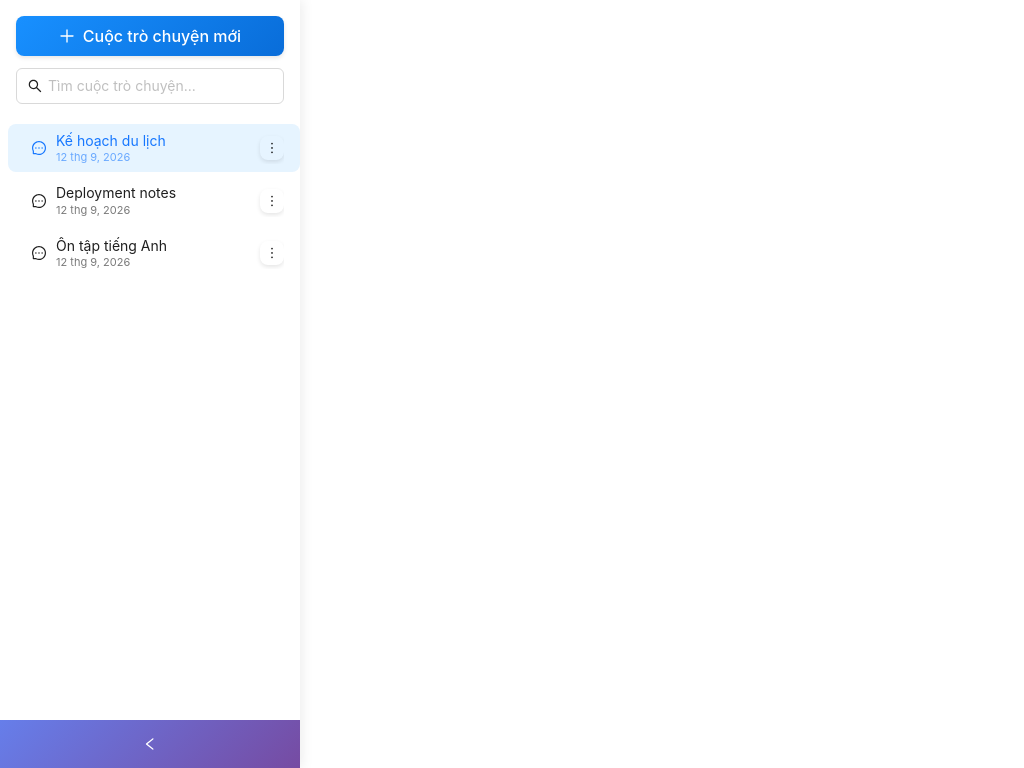
it: Sidebar › rename › saves a new name
Click the button named "Tùy chọn cuộc trò chuyện" next to "Deployment notes".
click(272, 201)  # box [260, 189, 284, 213]
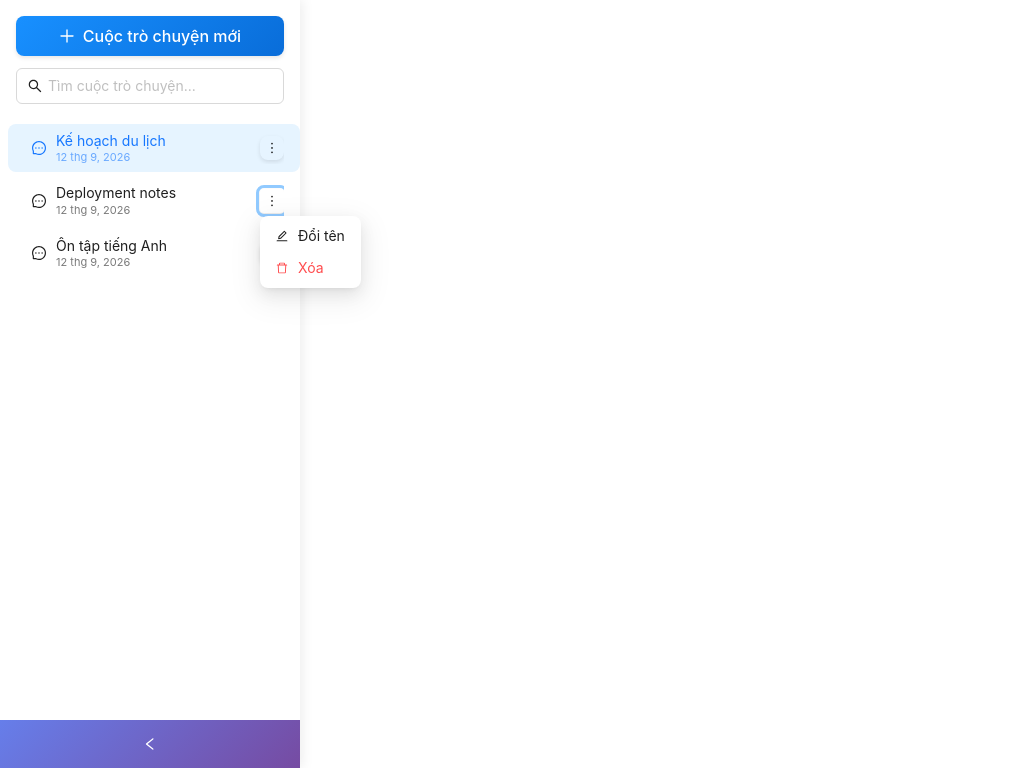
Click the menu item "Đổi tên".
click(310, 236)  # box [276, 227, 345, 244]
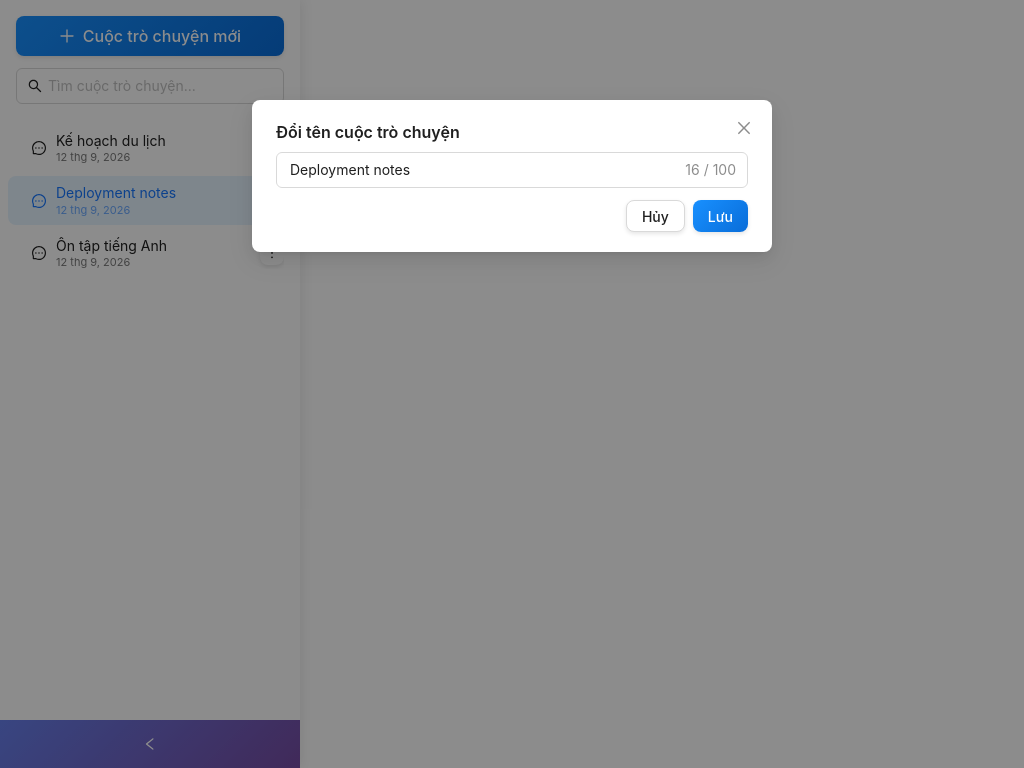
Clear the field at (485, 170), box [288, 157, 681, 183]
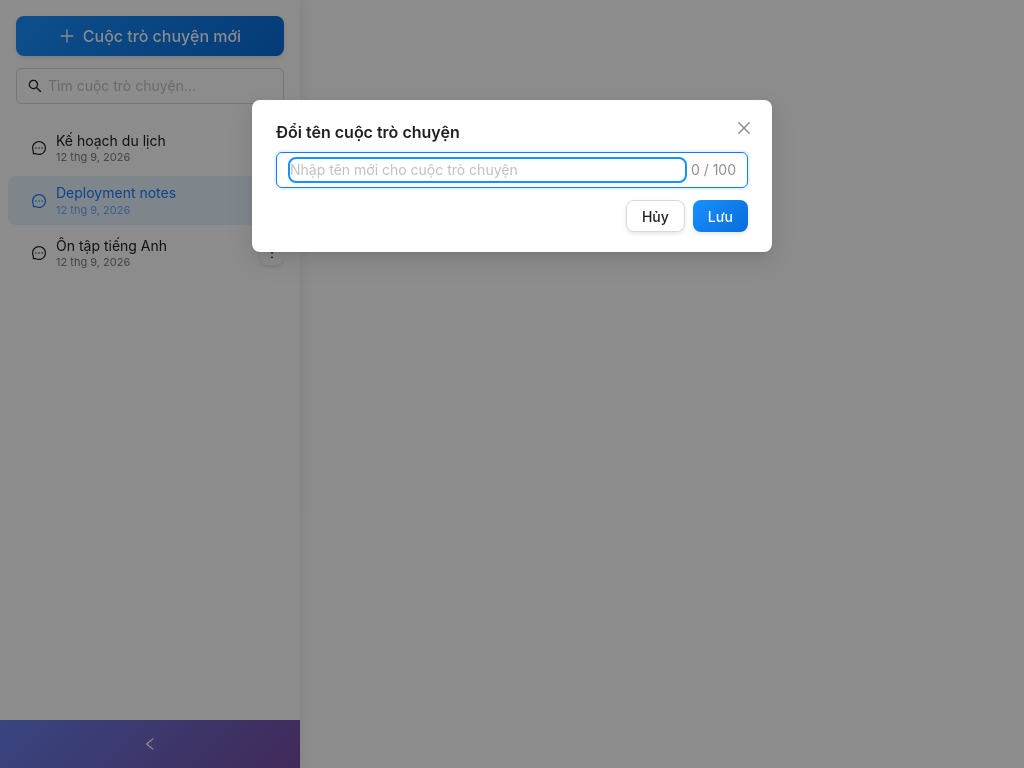
Type "Release checklist" into the field.
click(487, 170); type("Release checklist")  # box [288, 157, 687, 183]
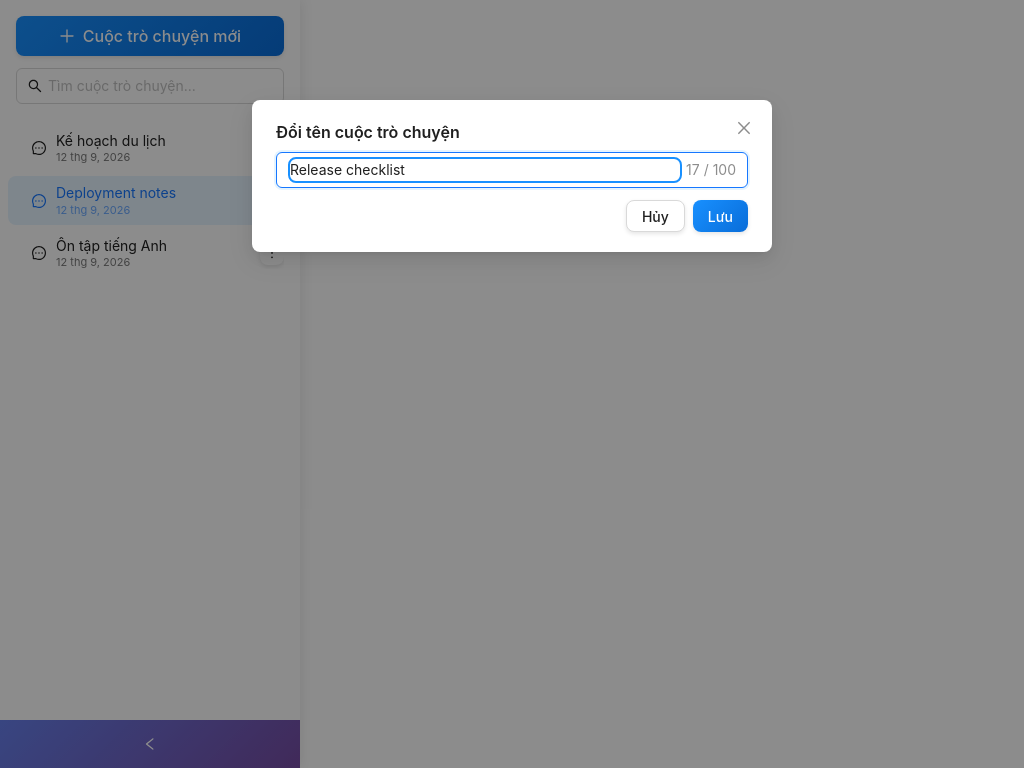
Click the button "Lưu".
click(720, 216)  # box [693, 200, 748, 232]
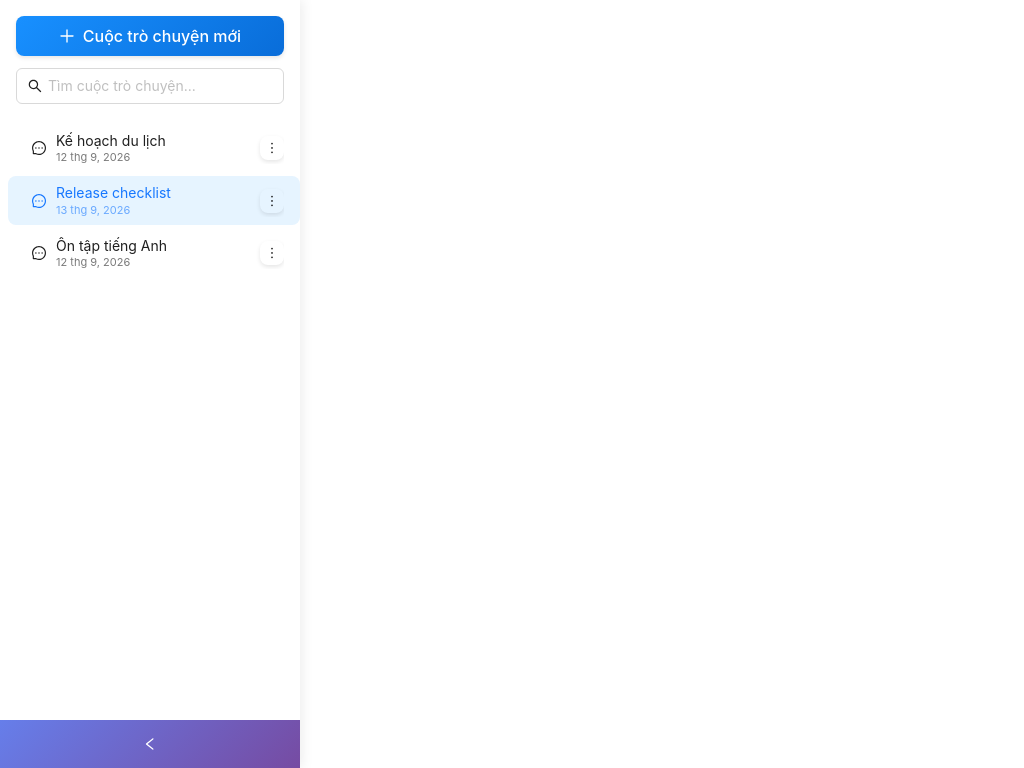
Expected: the text "Deployment notes" reads "Release checklist", [56, 184, 171, 202]
